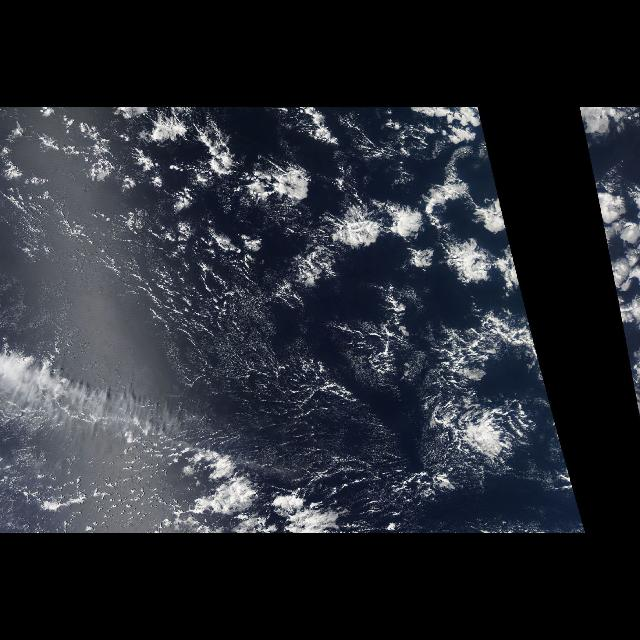Flower: (334, 178, 534, 338), (593, 178, 639, 338)
Sugar: (158, 292, 382, 438)
